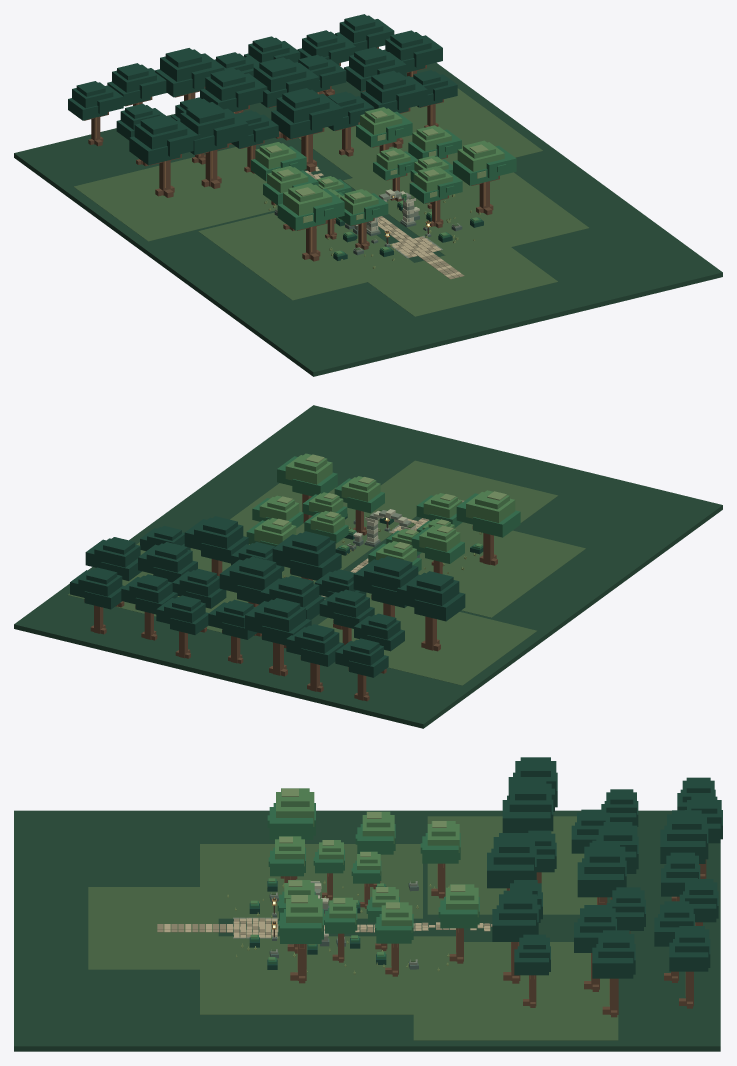
The model's file is creator-scene.glb.
The picture shows the model from 3 angles, top to bottom: view 1: azimuth 30°, elevation 25°; view 2: azimuth 150°, elevation 25°; view 3: azimuth 270°, elevation 25°; orthographic projection. The views are drawn at different scales.
Parts seen in each view (by area): view 1: creator-ground-deep, creator-ground-moss, creator-leaf-shadow, creator-leaf, creator-leaf-sun, creator-bark, creator-leaf-mint, creator-path, creator-path-shadow, creator-stone, creator-bark-light; view 2: creator-ground-deep, creator-leaf-shadow, creator-ground-moss, creator-leaf-sun, creator-leaf, creator-bark, creator-leaf-mint; view 3: creator-ground-deep, creator-ground-moss, creator-leaf-shadow, creator-leaf, creator-leaf-sun, creator-bark, creator-path, creator-leaf-mint, creator-path-shadow.
Part boxes in pixels (x1,y1,x2,y2): creator-ground-deep: [14, 62, 722, 376]; creator-ground-moss: [73, 88, 588, 316]; creator-leaf-shadow: [68, 14, 483, 260]; creator-leaf: [251, 111, 516, 256]; creator-leaf-sun: [255, 107, 504, 254]; creator-bark: [84, 47, 499, 261]; creator-leaf-mint: [265, 110, 488, 223]; creator-path: [305, 166, 461, 277]; creator-path-shadow: [308, 173, 464, 279]; creator-stone: [275, 190, 460, 258]; creator-bark-light: [95, 71, 485, 252]; creator-ground-deep: [14, 405, 722, 728]; creator-leaf-shadow: [70, 514, 483, 677]; creator-ground-moss: [68, 460, 585, 685]; creator-leaf-sun: [254, 453, 515, 561]; creator-leaf: [246, 456, 520, 571]; creator-bark: [84, 494, 497, 701]; creator-leaf-mint: [272, 454, 506, 549]; creator-ground-deep: [14, 810, 720, 1051]; creator-ground-moss: [88, 816, 618, 1040]; creator-leaf-shadow: [249, 757, 722, 978]; creator-leaf: [250, 803, 479, 963]; creator-leaf-sun: [251, 788, 478, 960]; creator-bark: [278, 859, 706, 1017]; creator-path: [164, 918, 490, 937]; creator-leaf-mint: [279, 788, 465, 909]; creator-path-shadow: [157, 918, 492, 937].
Size of the model in its own units: 60 by 11.05 by 76.25.
